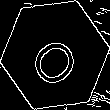O_NE: (24, 22, 86, 88)
